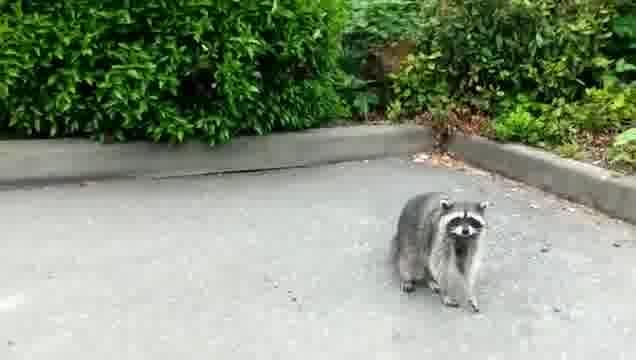raccoon: (387, 189, 494, 319)
